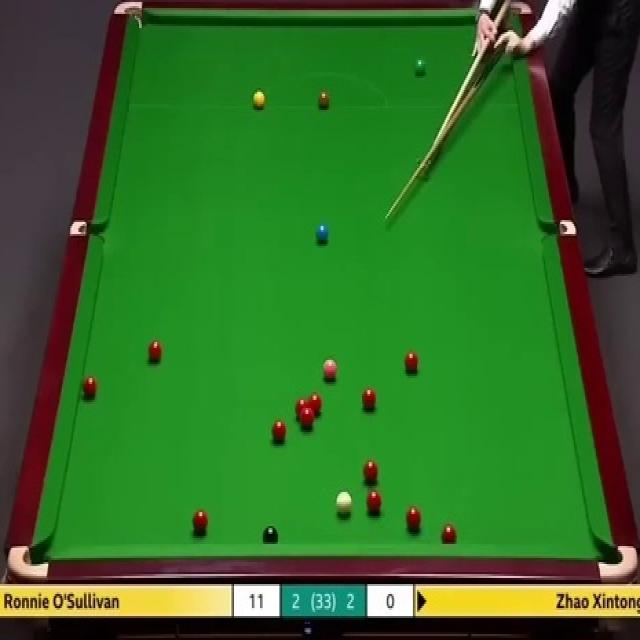black-ball: (262, 525, 280, 546)
blue-ball: (315, 224, 330, 244)
brown-ball: (318, 88, 330, 108)
green-ball: (412, 56, 426, 78)
pink-ball: (322, 359, 339, 384)
red-ball: (404, 504, 424, 530), (358, 385, 376, 411), (191, 508, 208, 535), (404, 349, 420, 375), (366, 490, 382, 516), (440, 522, 458, 545), (147, 339, 162, 366), (362, 458, 378, 483), (272, 420, 287, 444), (294, 398, 308, 422), (84, 376, 98, 400), (309, 393, 322, 418), (300, 411, 316, 430)
white-ball: (335, 491, 353, 516)
yellow-ball: (252, 91, 266, 109)
